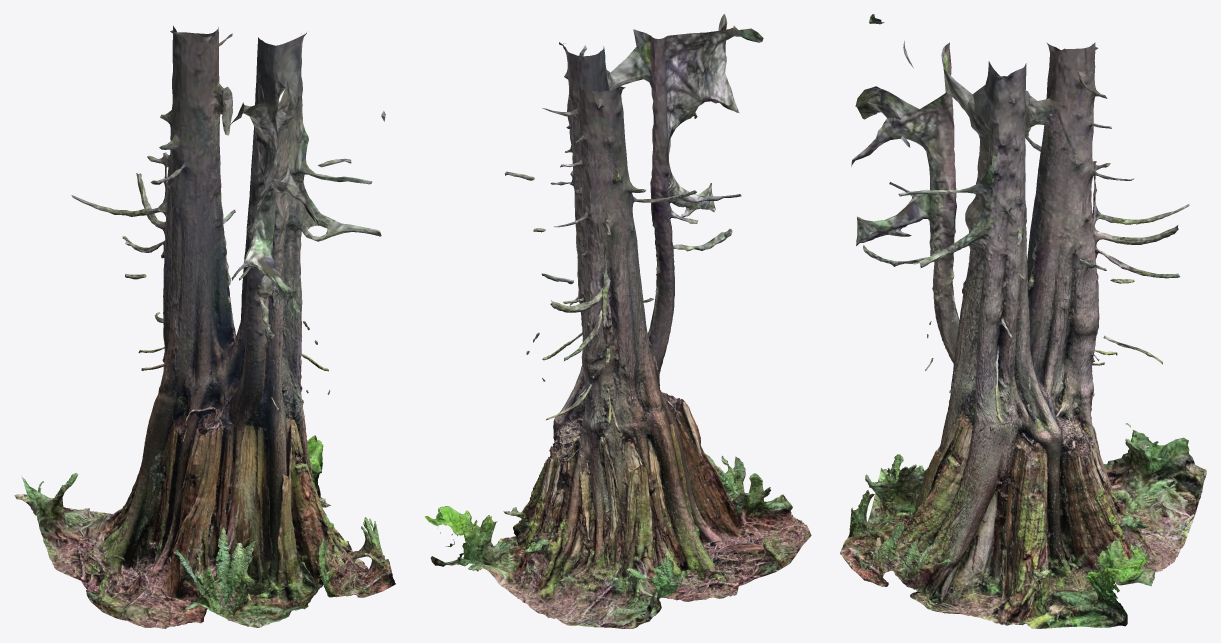
The model's file is two_cedar_trees.glb.
3 renders of one model, left to right at view 1: azimuth 30°, elevation 25°; view 2: azimuth 150°, elevation 25°; view 3: azimuth 270°, elevation 25°, orthographic. The views are drawn at different scales.
Size of the model in its own units: 1.55 by 2.68 by 1.67.
1 material, 1 textured.
